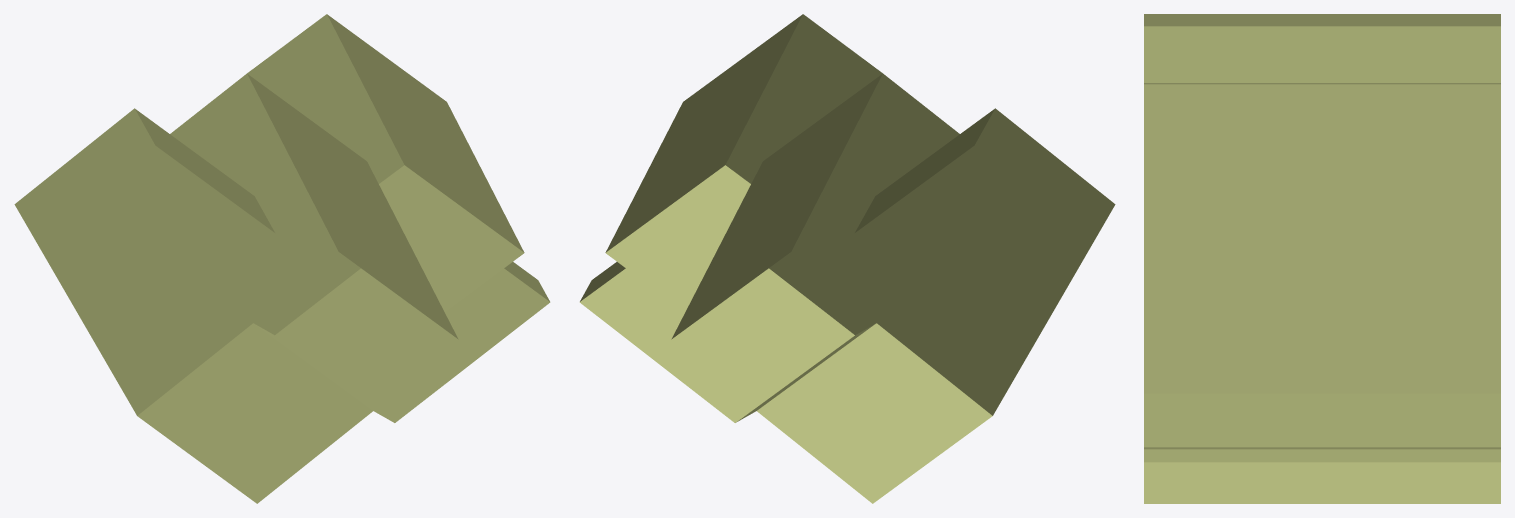
3 renders of one model, left to right at view 1: azimuth 30°, elevation 25°; view 2: azimuth 150°, elevation 25°; view 3: azimuth 270°, elevation 25°, orthographic. The views are drawn at different scales.
Parts seen in each view (by area): view 1: 0_1_0_2_0_0_3_1_3_0; view 2: 0_1_0_2_0_0_3_1_3_0; view 3: 0_1_0_2_0_0_3_1_3_0.
Boxes of the visible parts, bbox=[...] form: 0_1_0_2_0_0_3_1_3_0: bbox=[14, 14, 550, 503]; 0_1_0_2_0_0_3_1_3_0: bbox=[579, 14, 1115, 503]; 0_1_0_2_0_0_3_1_3_0: bbox=[1144, 14, 1500, 503].
Bounding box in the file's own units: 18 × 14.71 × 9.
